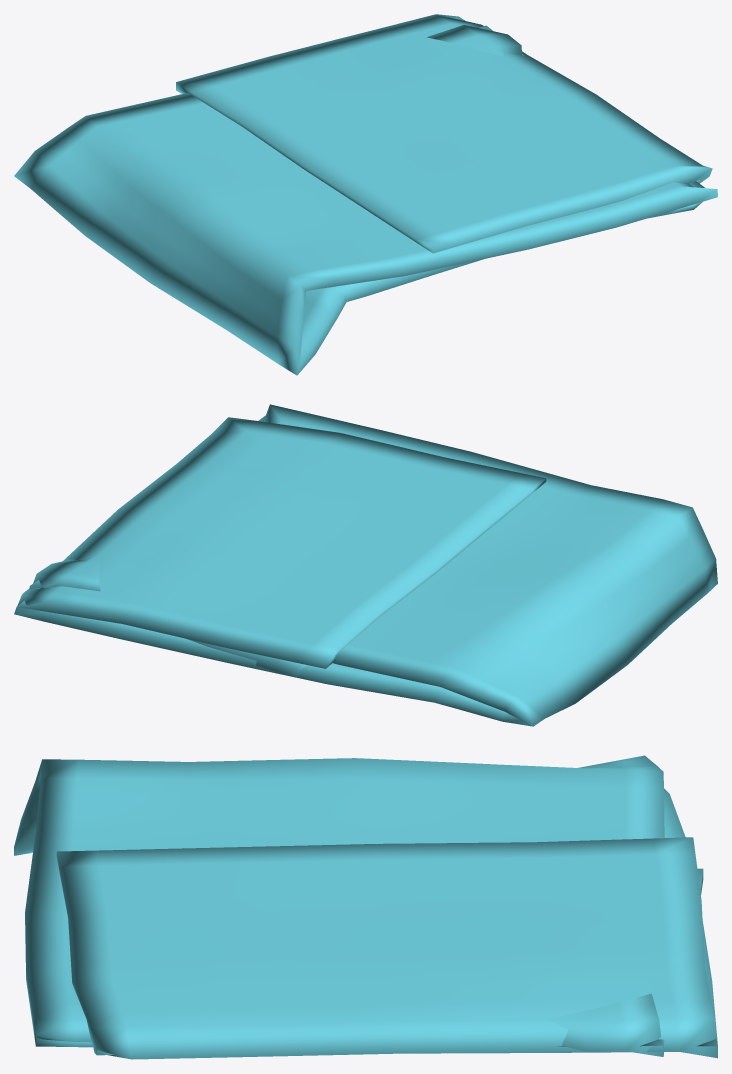
File: towel_ontable.fbx
3 views of the same model, one above another, from view 1: azimuth 30°, elevation 25°; view 2: azimuth 150°, elevation 25°; view 3: azimuth 270°, elevation 25° (orthographic). The views are drawn at different scales.
Parts seen in each view (by area): view 1: Plane; view 2: Plane; view 3: Plane.
Part boxes in pixels (x1,y1,x2,y2): Plane: (14, 14, 717, 375); Plane: (14, 404, 717, 726); Plane: (14, 755, 717, 1059).
Size of the model in its own units: 254 by 38.67 by 229.
